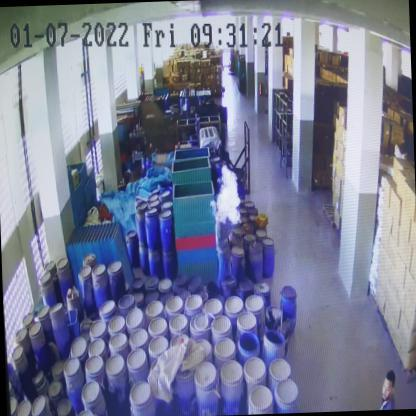smoke: (207, 161, 243, 228)
